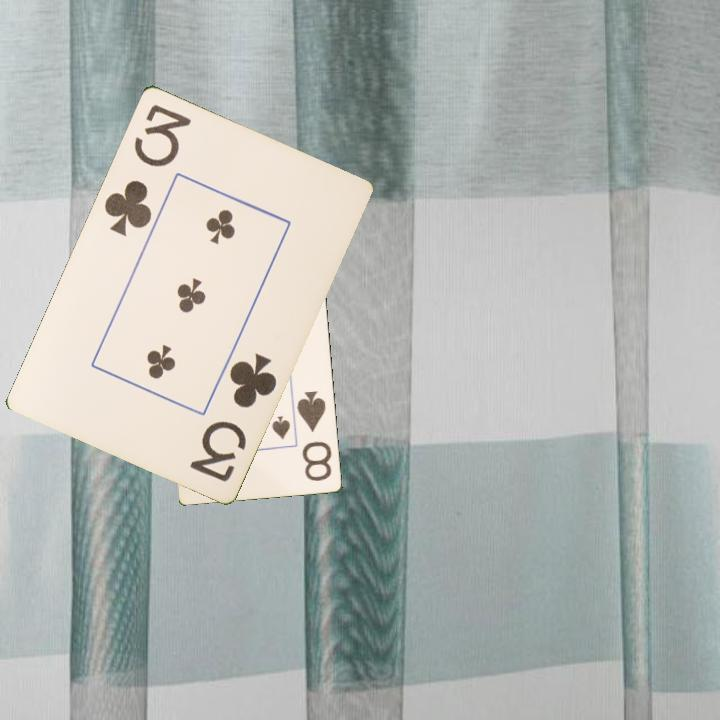3c: (100, 100, 194, 239), (186, 348, 280, 485)
8s: (294, 388, 335, 484)
